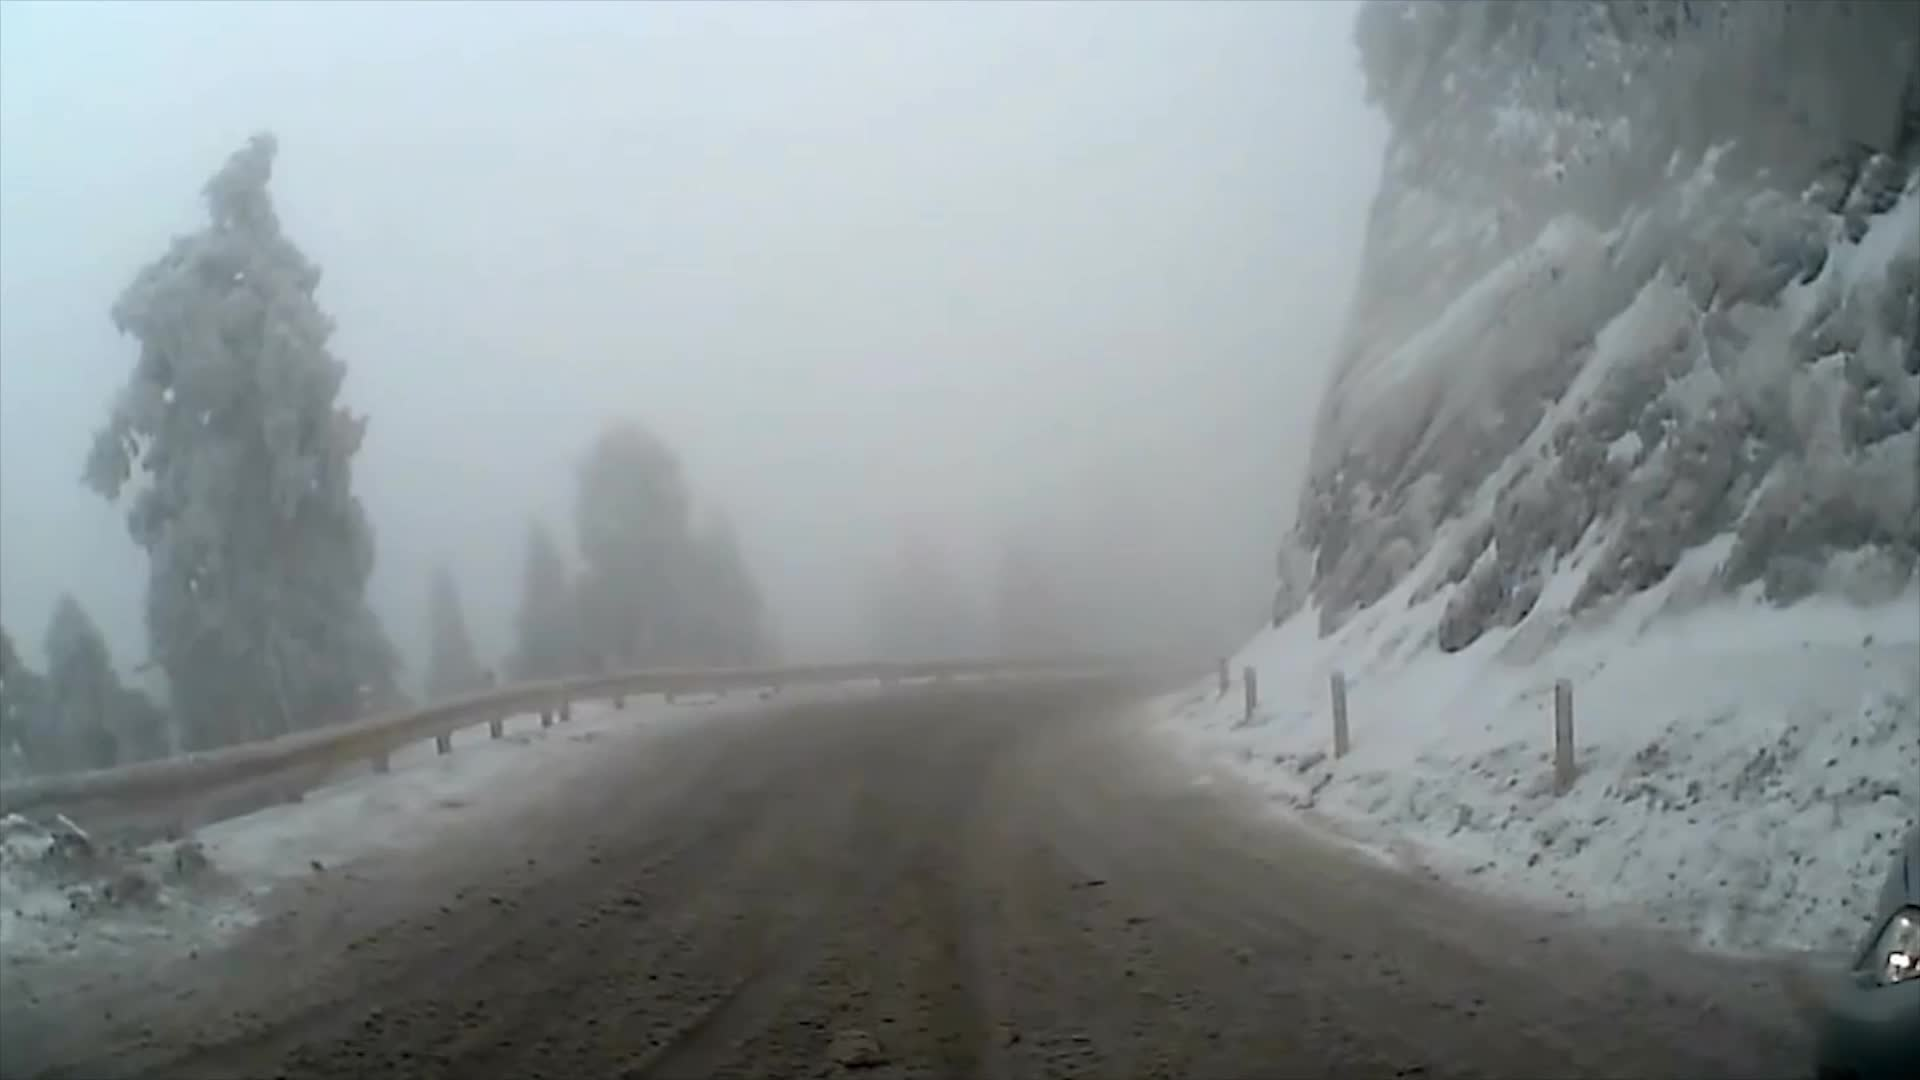vehicle: (1811, 818, 1919, 1079)
